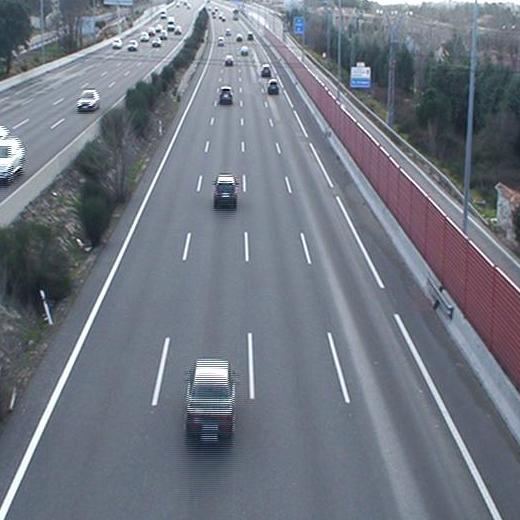car: (185, 358, 237, 445), (210, 174, 239, 208), (217, 86, 233, 106), (265, 79, 281, 95), (258, 63, 272, 78), (223, 53, 237, 67)
